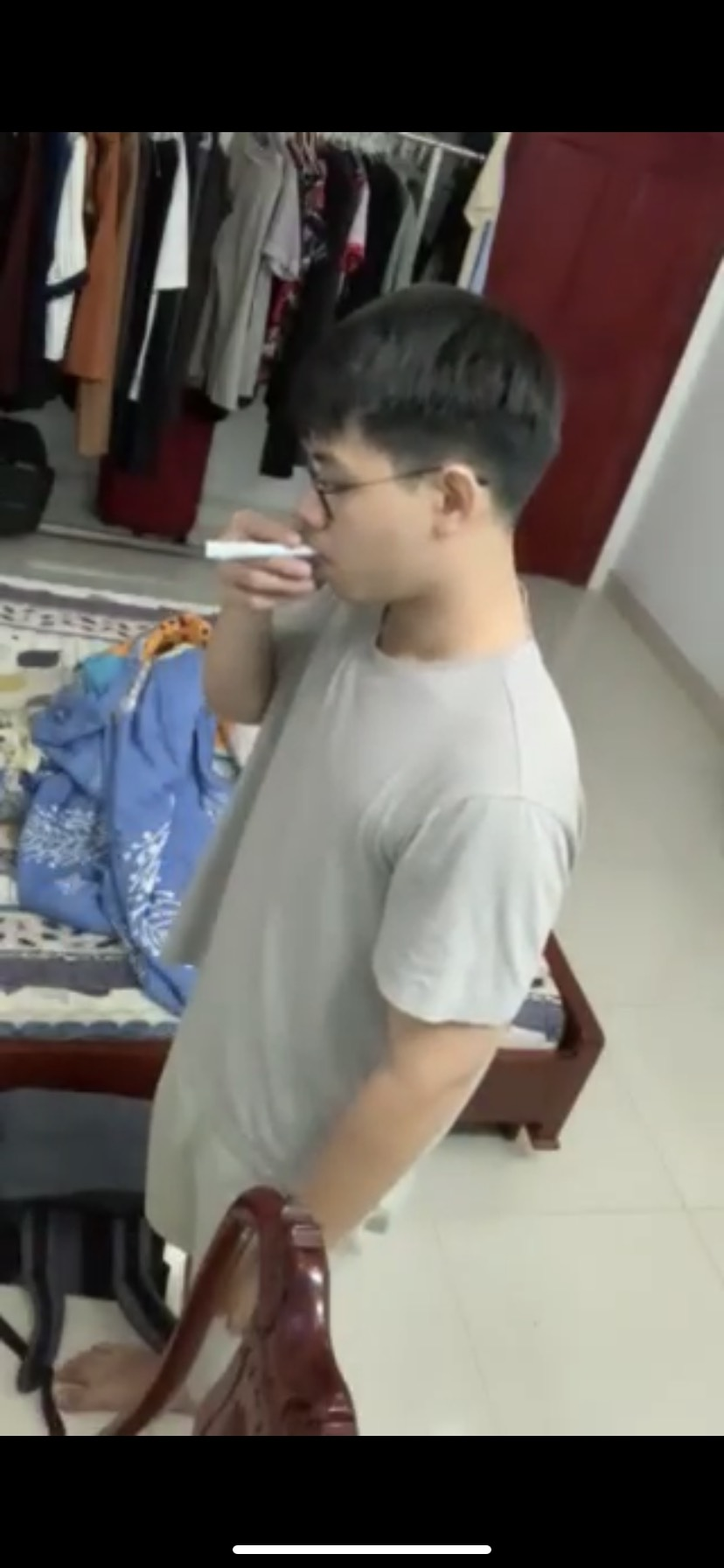cigarette: (194, 520, 319, 569)
person: (159, 279, 596, 1264)
